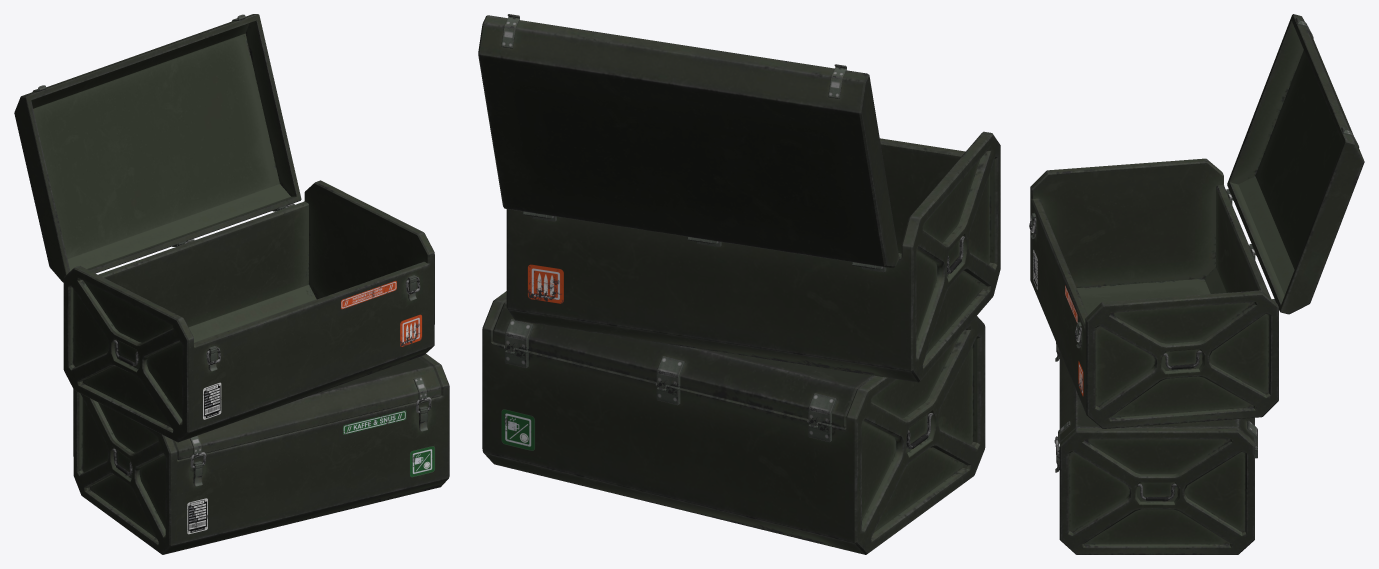
The model's file is military_crates.glb.
3 views of the same model, side by side, from view 1: azimuth 30°, elevation 25°; view 2: azimuth 150°, elevation 25°; view 3: azimuth 270°, elevation 25° (orthographic). The views are drawn at different scales.
Parts seen in each view (by area): view 1: defaultMaterial (×6); view 2: defaultMaterial (×6); view 3: defaultMaterial (×5).
Boxes of the visible parts, <box> form: defaultMaterial (×6): <box>14,14,449,554</box>; defaultMaterial (×6): <box>478,14,1000,554</box>; defaultMaterial (×5): <box>1029,14,1364,554</box>.
Size of the model in its own units: 1.67 by 2 by 1.54.
Materials: 3 (3 with a texture image).
